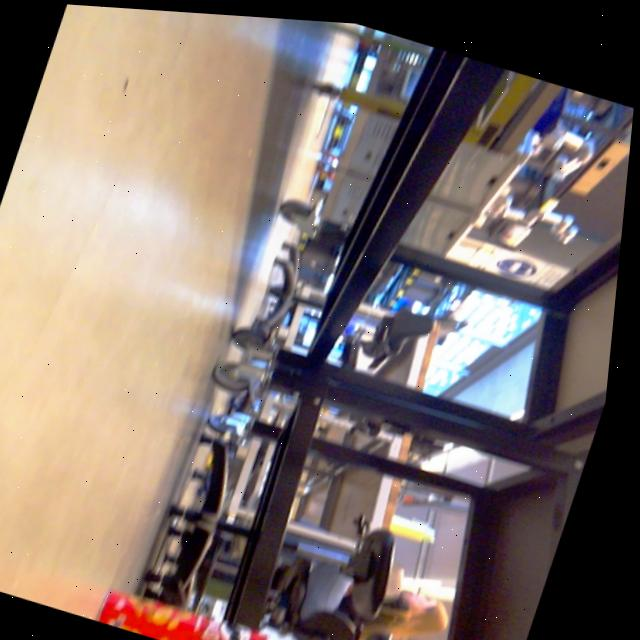redpringles: (88, 566, 309, 640)
